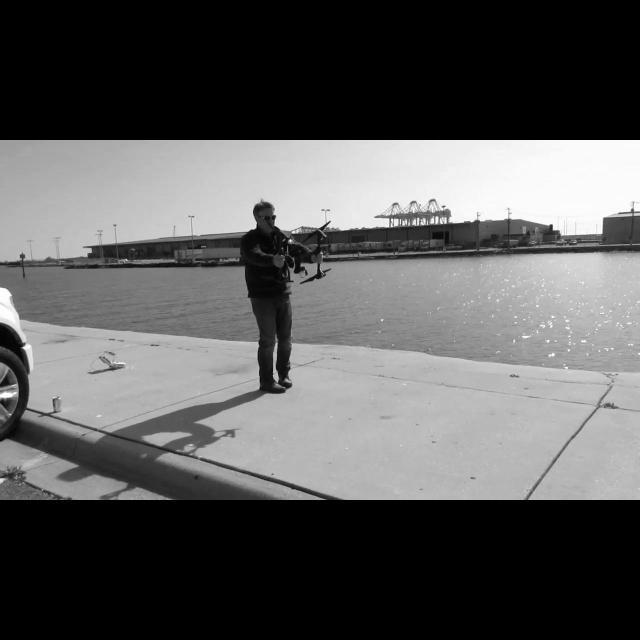Drons: (270, 222, 334, 286)
